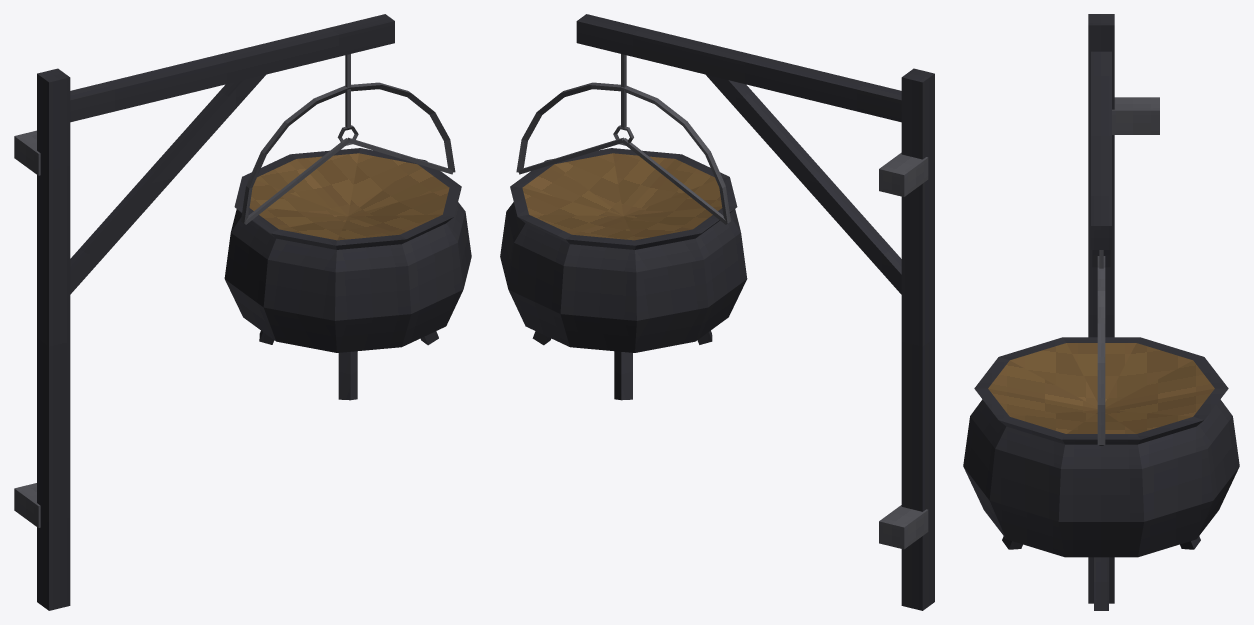
The model's file is hearth-crane-cauldron.glb.
3 renders of one model, left to right at view 1: azimuth 30°, elevation 25°; view 2: azimuth 150°, elevation 25°; view 3: azimuth 270°, elevation 25°, orthographic. The views are drawn at different scales.
Visible parts, largest first — view 1: cauldron, crane; view 2: cauldron, crane; view 3: cauldron, crane.
Part boxes in pixels (left/top/right/bottom): cauldron: left=224, top=82, right=471, bottom=400; crane: left=14, top=14, right=394, bottom=610; cauldron: left=500, top=82, right=747, bottom=400; crane: left=576, top=14, right=934, bottom=610; cauldron: left=963, top=256, right=1239, bottom=610; crane: left=1088, top=14, right=1159, bottom=603.
Bounding box in the file's own units: 0.981 × 1.2 × 0.52.
Materials: 1 (1 with a texture image).
